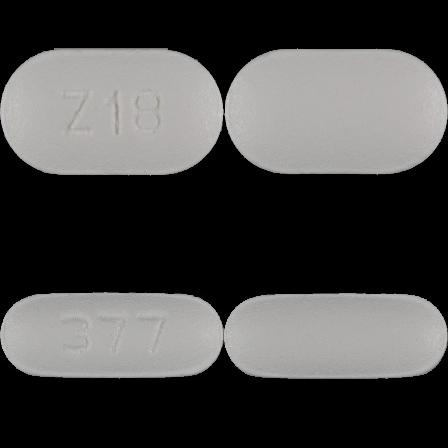63629-4383: (0, 0, 224, 224)
